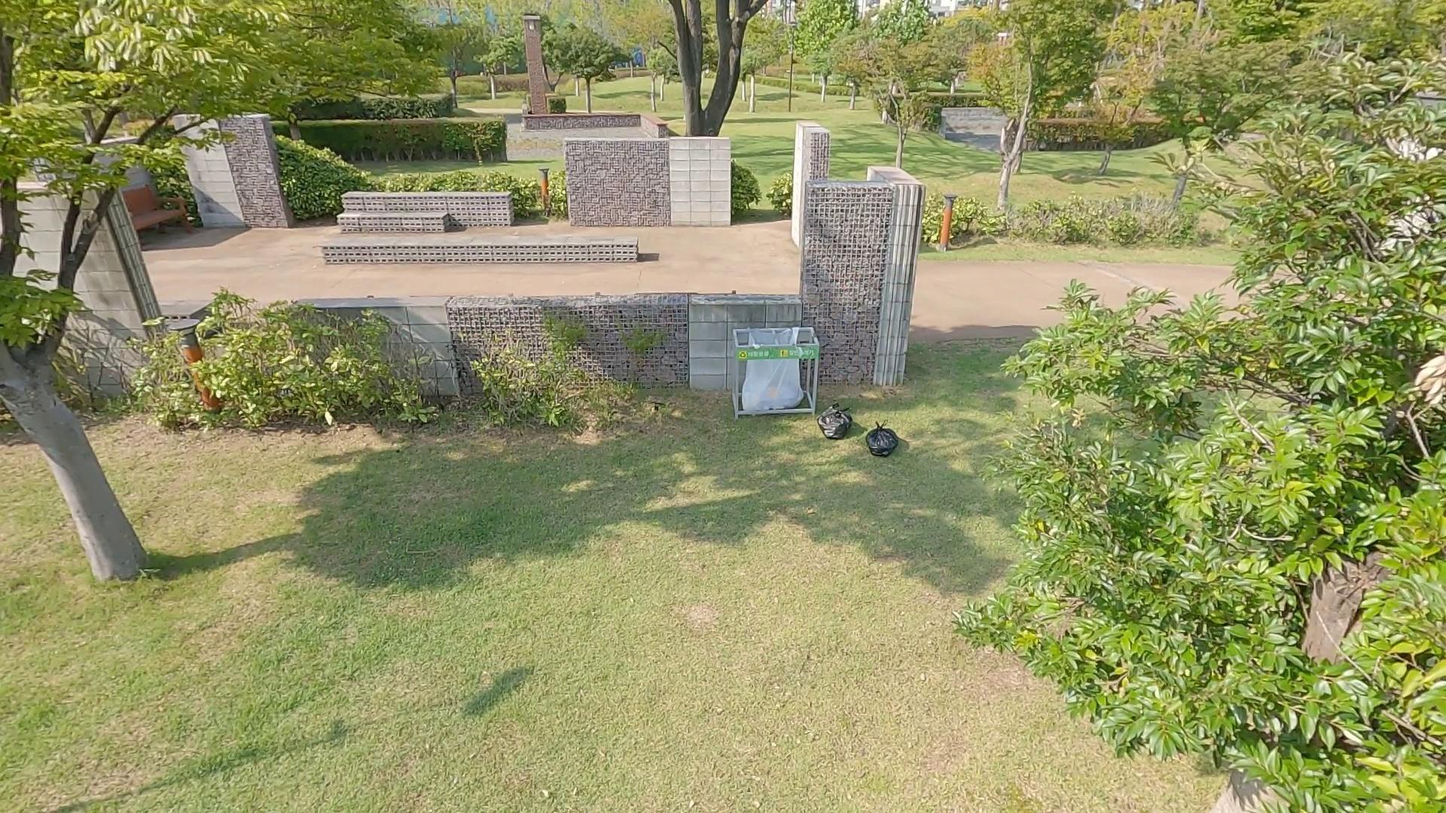trash: (865, 418, 899, 459), (818, 402, 854, 440)
